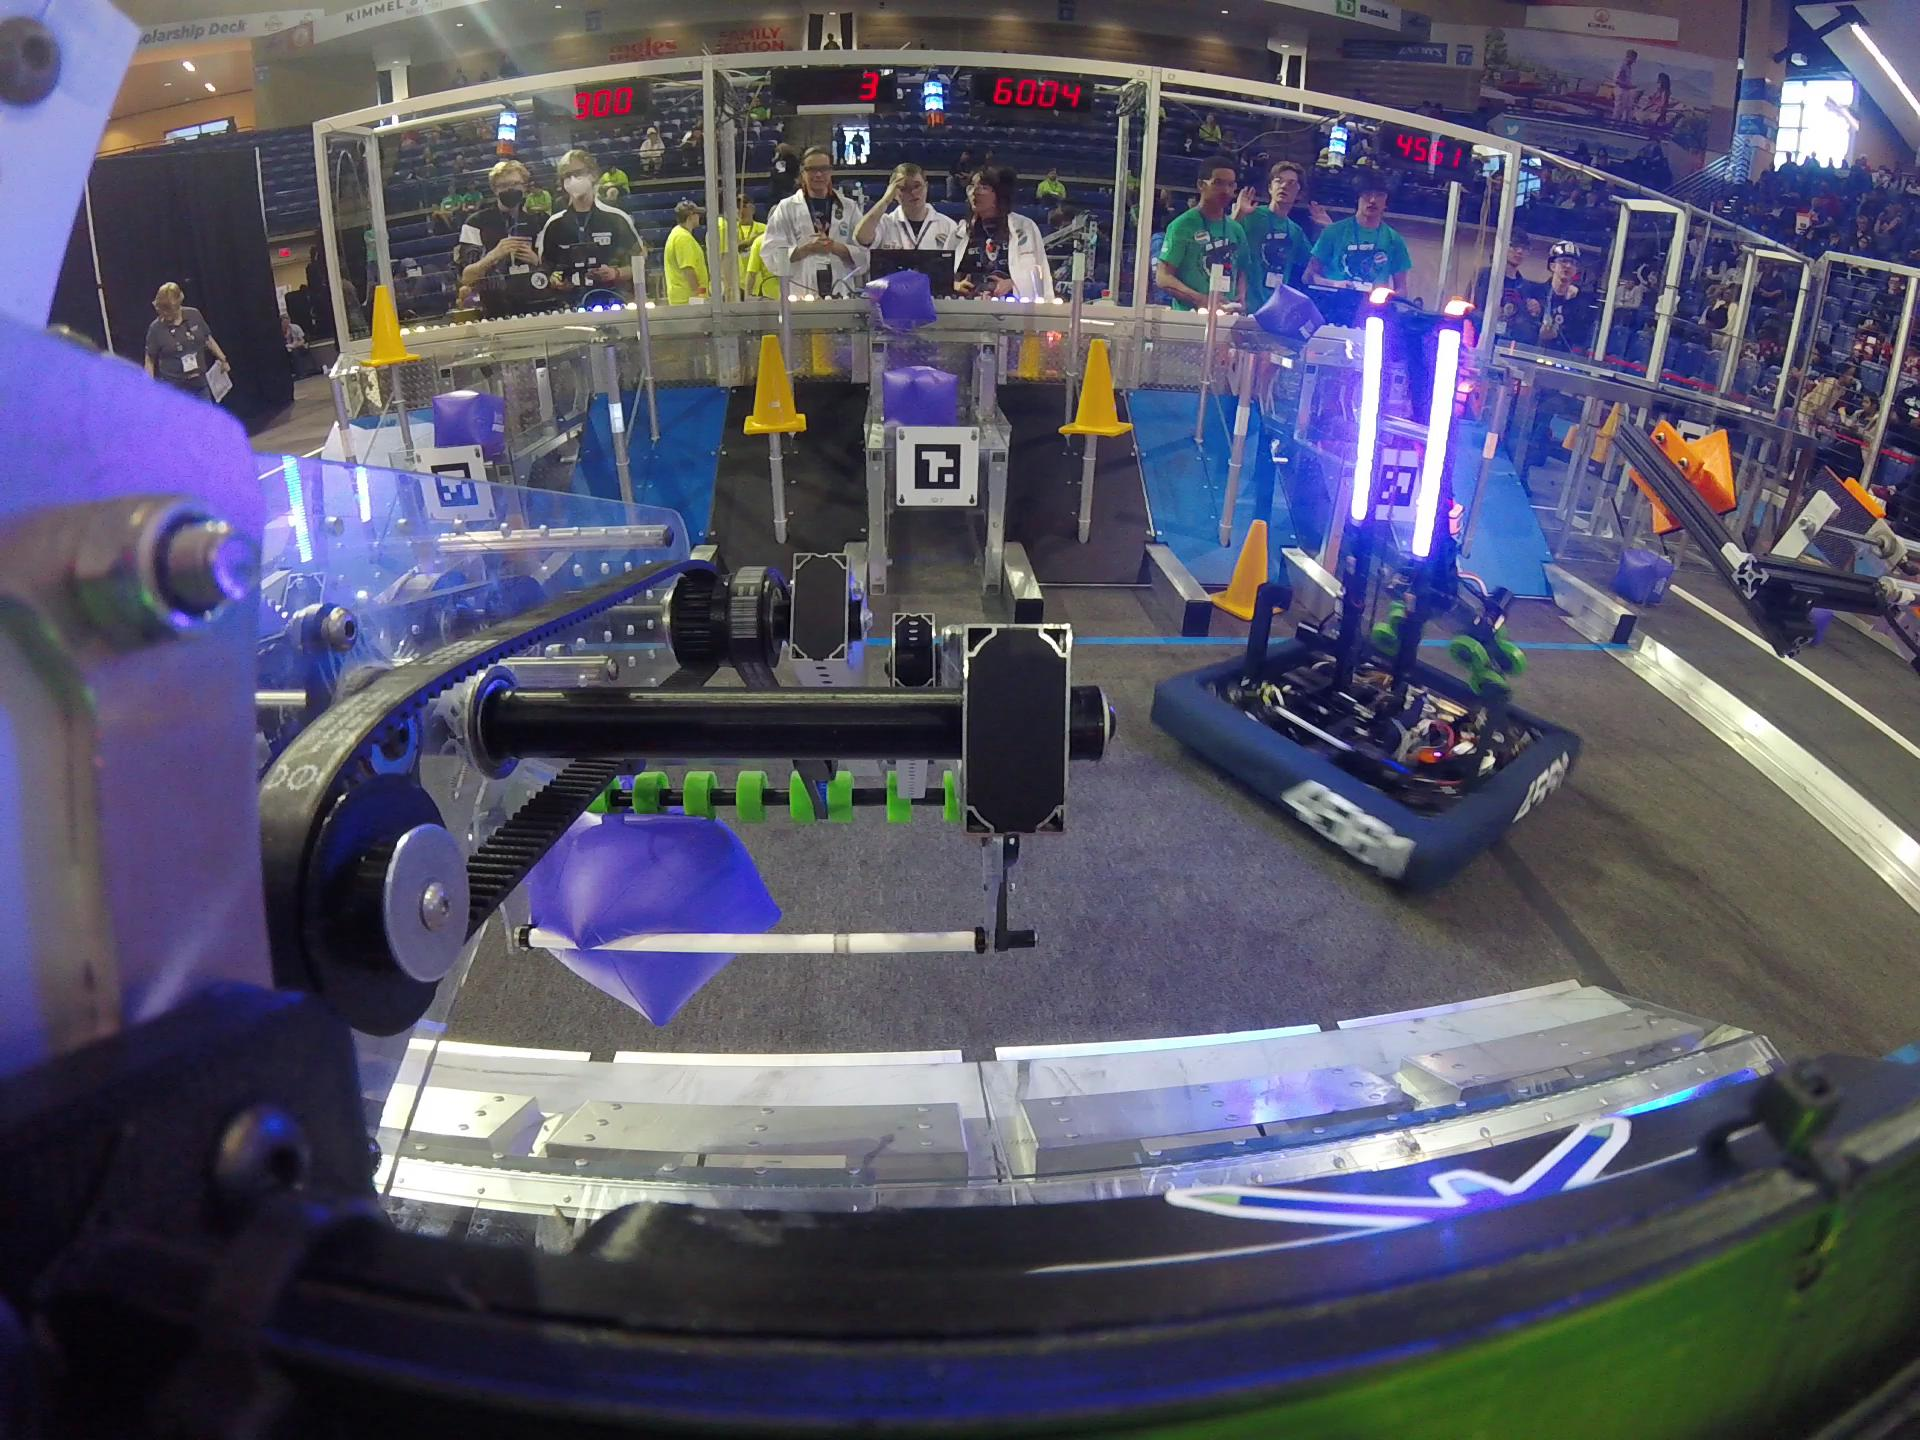robot: (1170, 219, 1568, 886)
